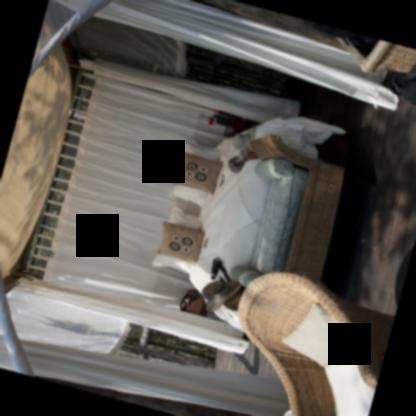backpack: (388, 61, 416, 105), (224, 284, 246, 310)
